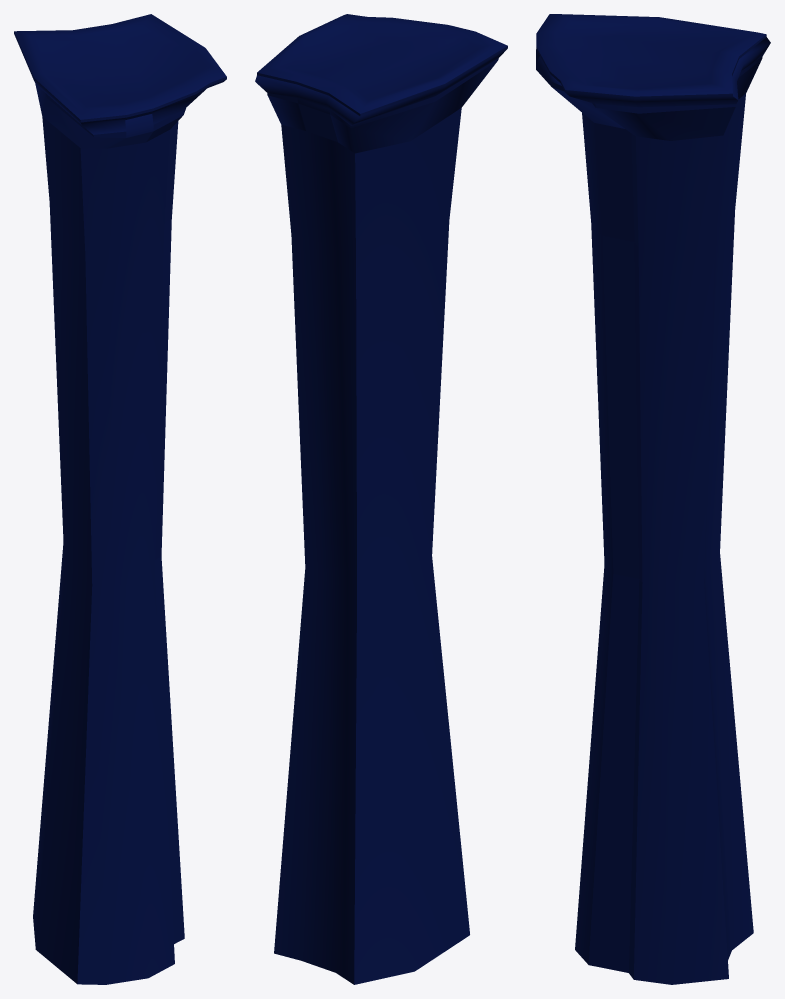
Rendered from DungeonTall2.fbx.
The picture shows the model from 3 angles, left to right: view 1: azimuth 30°, elevation 25°; view 2: azimuth 150°, elevation 25°; view 3: azimuth 270°, elevation 25°; orthographic projection.
Visible parts, largest first — view 1: DungeonTall2; view 2: DungeonTall2; view 3: DungeonTall2.
Part boxes in pixels (x1,y1,x2,y2): DungeonTall2: (14, 14, 226, 984); DungeonTall2: (255, 14, 507, 984); DungeonTall2: (536, 14, 770, 984).
Bounding box in the file's own units: 385 × 1956 × 463.
